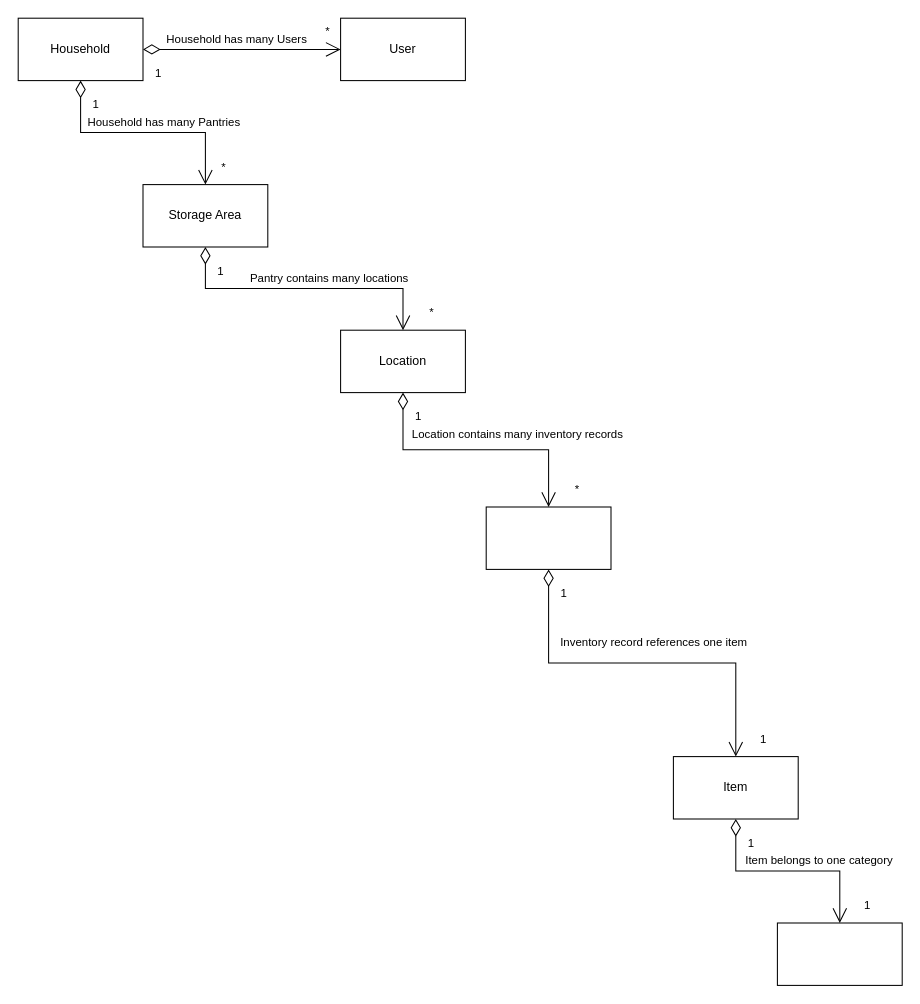
This 920x1004 diagram has some shape labels left out. Here are the shapes that lost their labels. From the top down, the centre of each, then its label:
the point at 548,537: Inventory Record
the point at 839,953: Category
